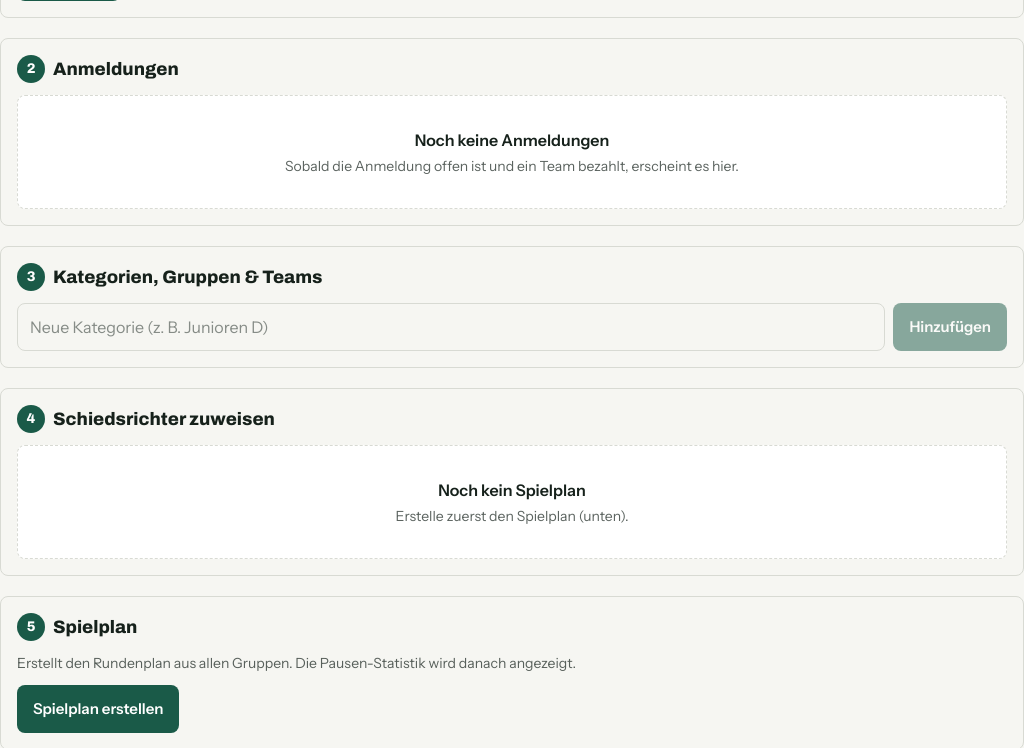
Scenario: schedule generation blockers › tells the admin to close registration first
This screenshot has width=1024, height=748.
(page scrolled)
Click the button "Spielplan erstellen".
click(98, 709)  # box [17,685,180,733]
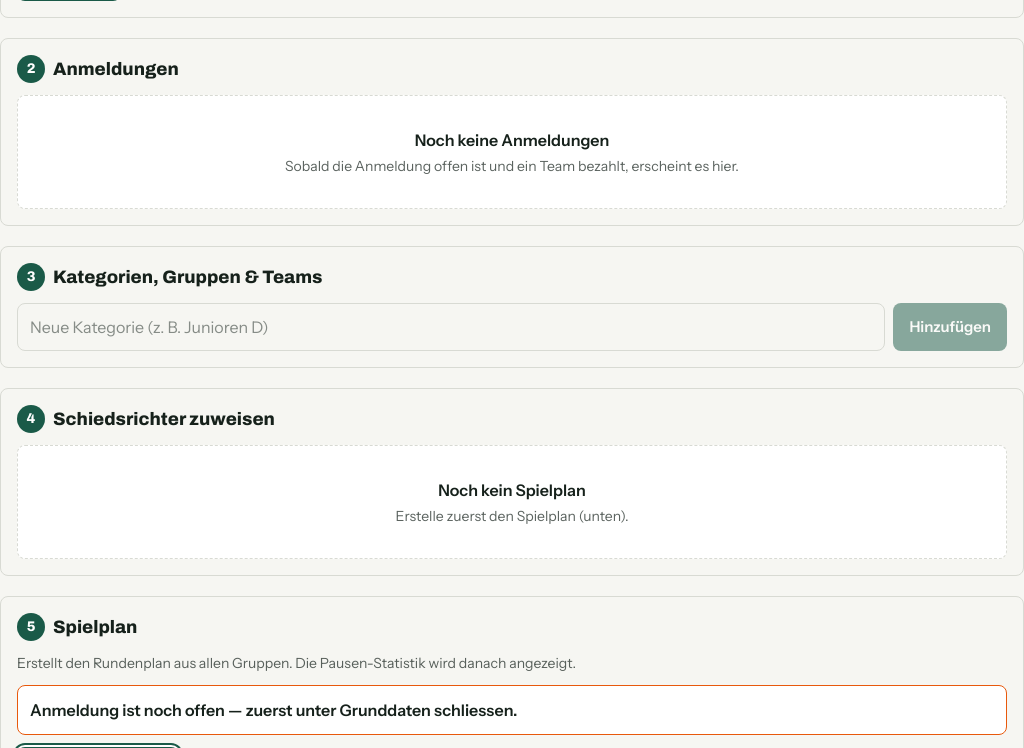
Check: the message shows "Anmeldung ist noch offen", box [30,700,517,720]
Check: the message shows "Grunddaten", box [30,700,517,720]
